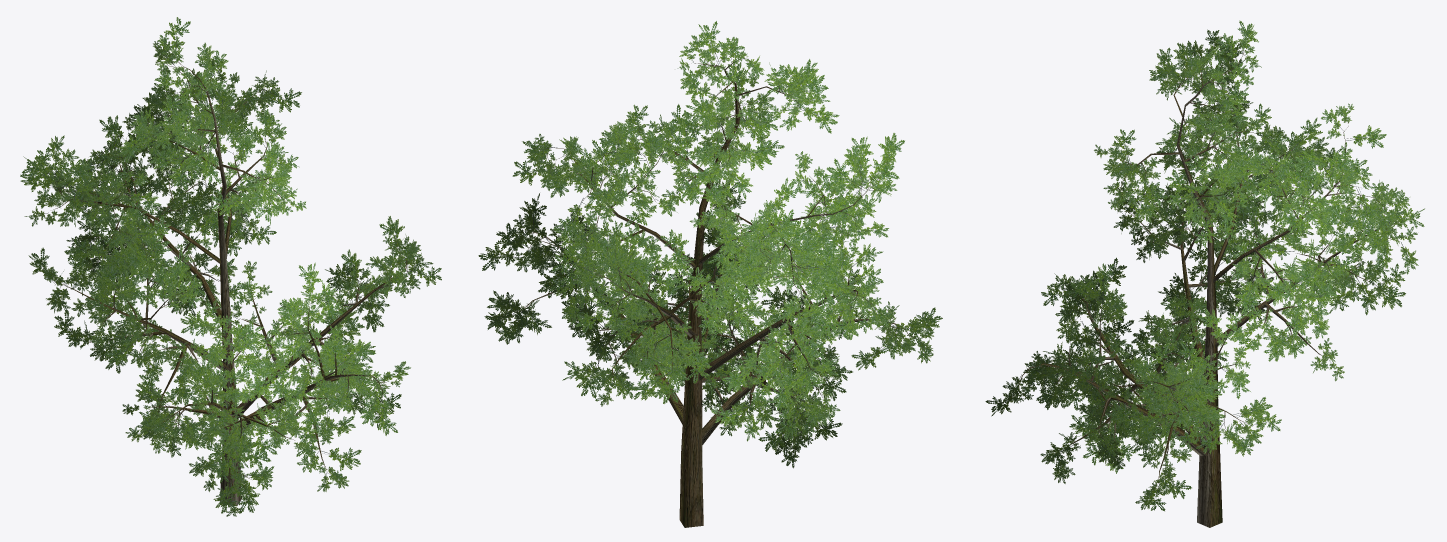
Rendered from ash_medium.glb.
3 views of the same model, side by side, from view 1: azimuth 30°, elevation 25°; view 2: azimuth 150°, elevation 25°; view 3: azimuth 270°, elevation 25° (orthographic). The views are drawn at different scales.
Visible parts, largest first — view 1: leaves, trunk; view 2: leaves, trunk; view 3: leaves, trunk.
Part boxes in pixels (x1=…): leaves: x1=20, y1=17, x2=441, y2=516; trunk: x1=53, y1=58, x2=409, y2=505; leaves: x1=478, y1=21, x2=942, y2=468; trunk: x1=507, y1=58, x2=916, y2=527; leaves: x1=985, y1=20, x2=1424, y2=511; trunk: x1=1018, y1=50, x2=1399, y2=527.
Bounding box in the file's own units: 9.79 × 11 × 9.28.
Materials: 2 (2 with a texture image).
